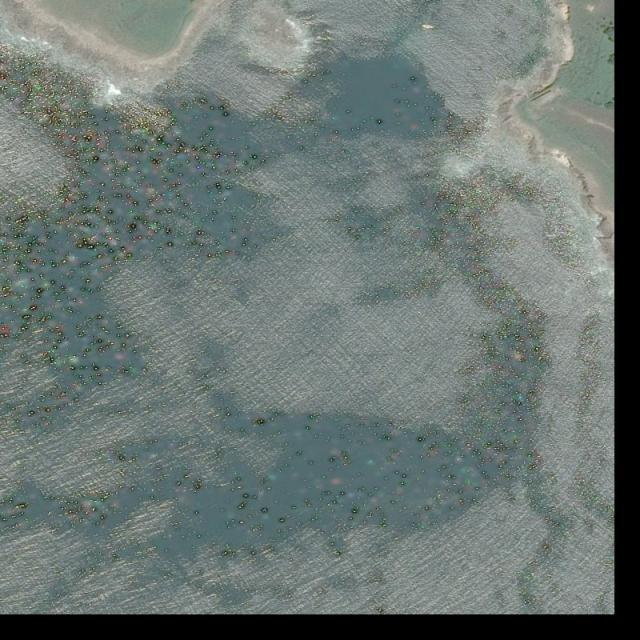ship: (422, 24, 434, 30)
